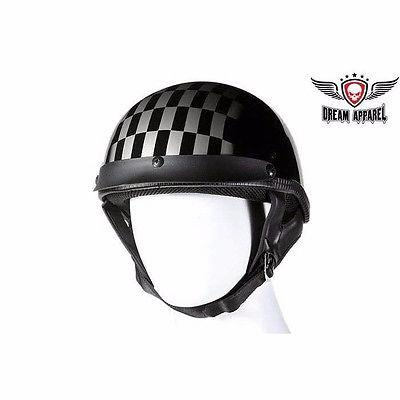with_helmet: (91, 72, 317, 323)
